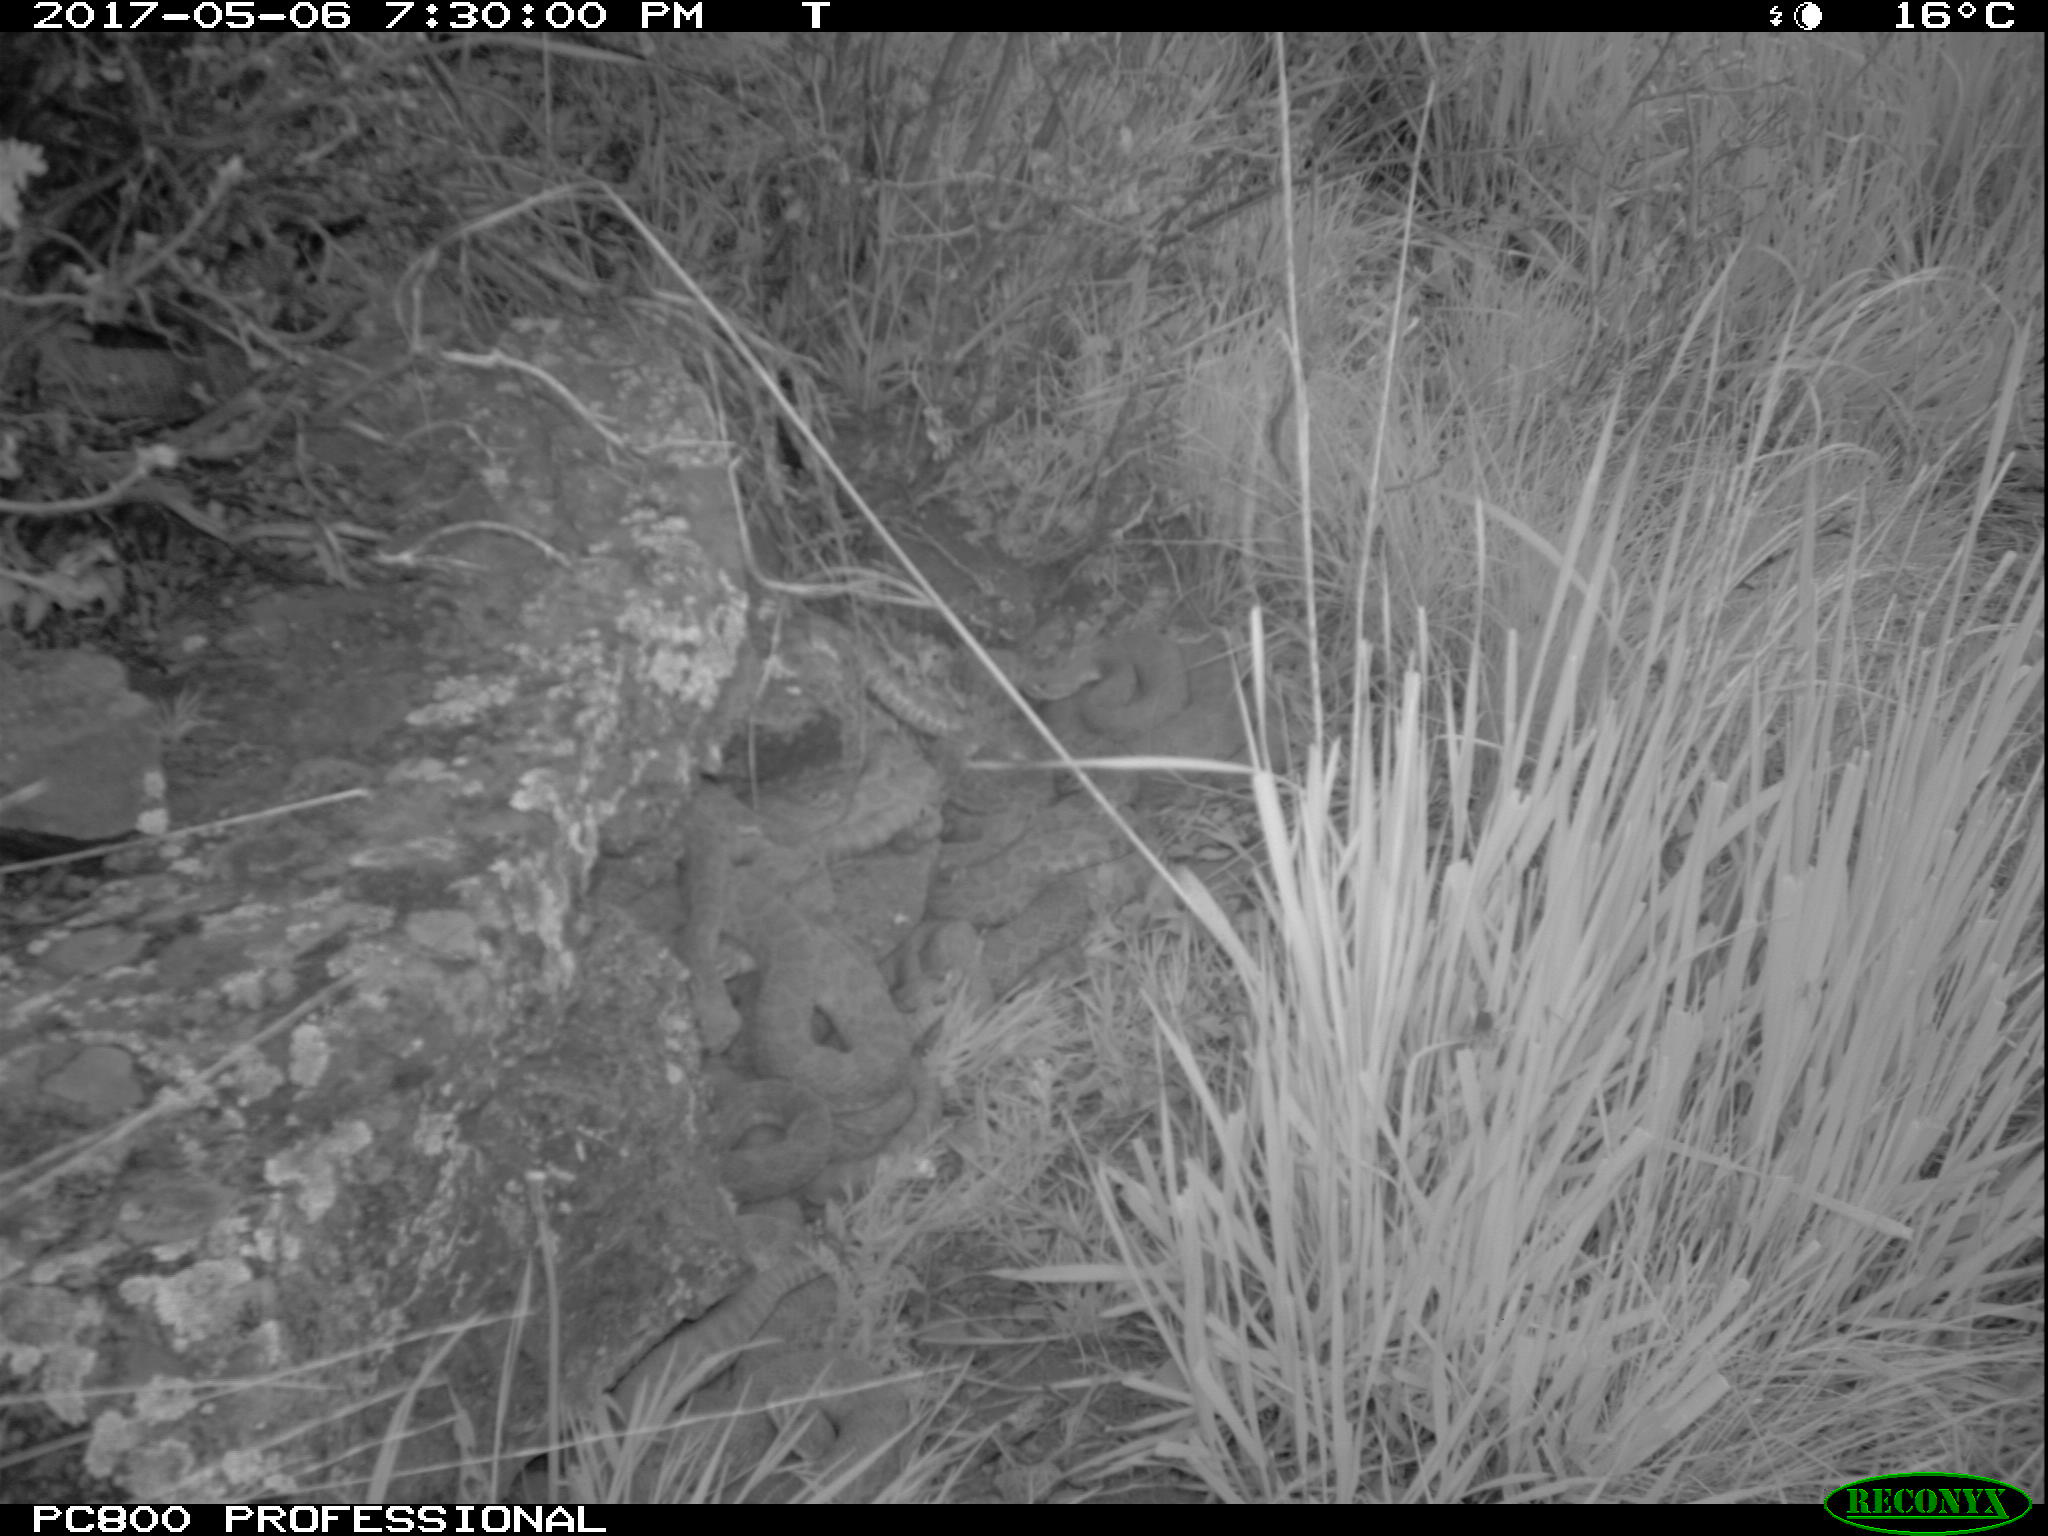snake: (610, 1254, 926, 1502), (672, 834, 913, 1097), (914, 797, 1164, 991), (1019, 634, 1279, 765), (834, 662, 1042, 763), (710, 1070, 842, 1192)
